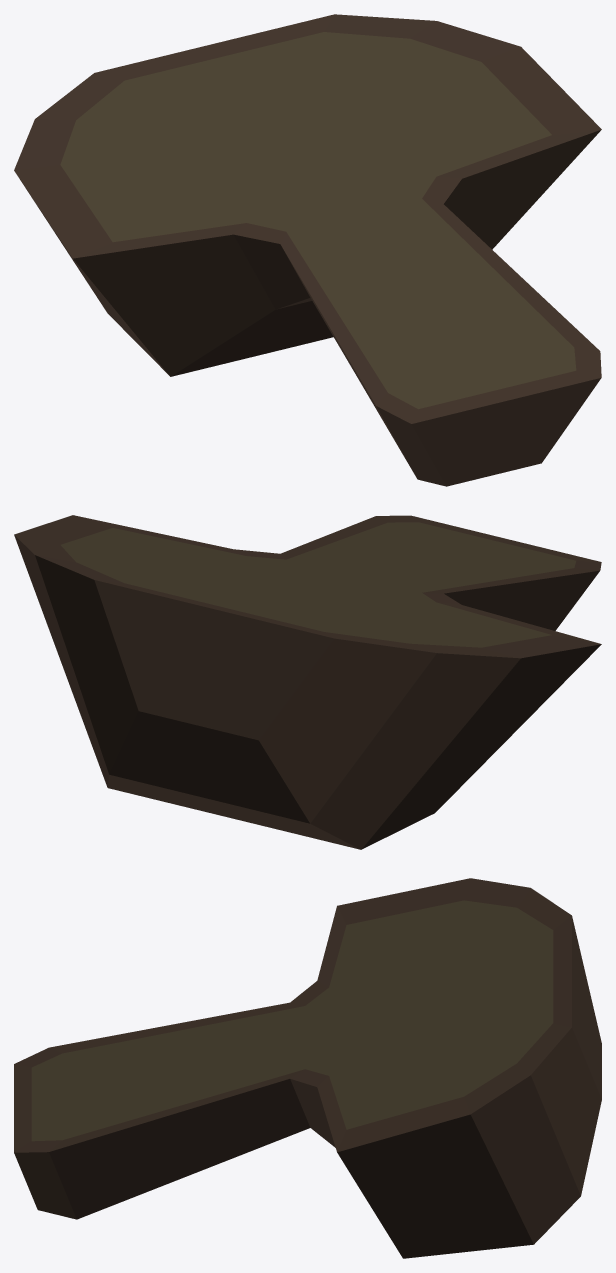
File: Mushroom_Sliced.obj
3 views of the same model, one above another, from view 1: azimuth 30°, elevation 25°; view 2: azimuth 150°, elevation 25°; view 3: azimuth 270°, elevation 25° (orthographic). The views are drawn at different scales.
Parts seen in each view (by area): view 1: Mushroom_Slice_Cylinder.045; view 2: Mushroom_Slice_Cylinder.045; view 3: Mushroom_Slice_Cylinder.045.
Part boxes in pixels (x1,y1,x2,y2): Mushroom_Slice_Cylinder.045: (14,14,601,486); Mushroom_Slice_Cylinder.045: (14,515,601,849); Mushroom_Slice_Cylinder.045: (14,878,601,1258).
Bounding box in the file's own units: 0.4135 × 0.1765 × 0.4166.
